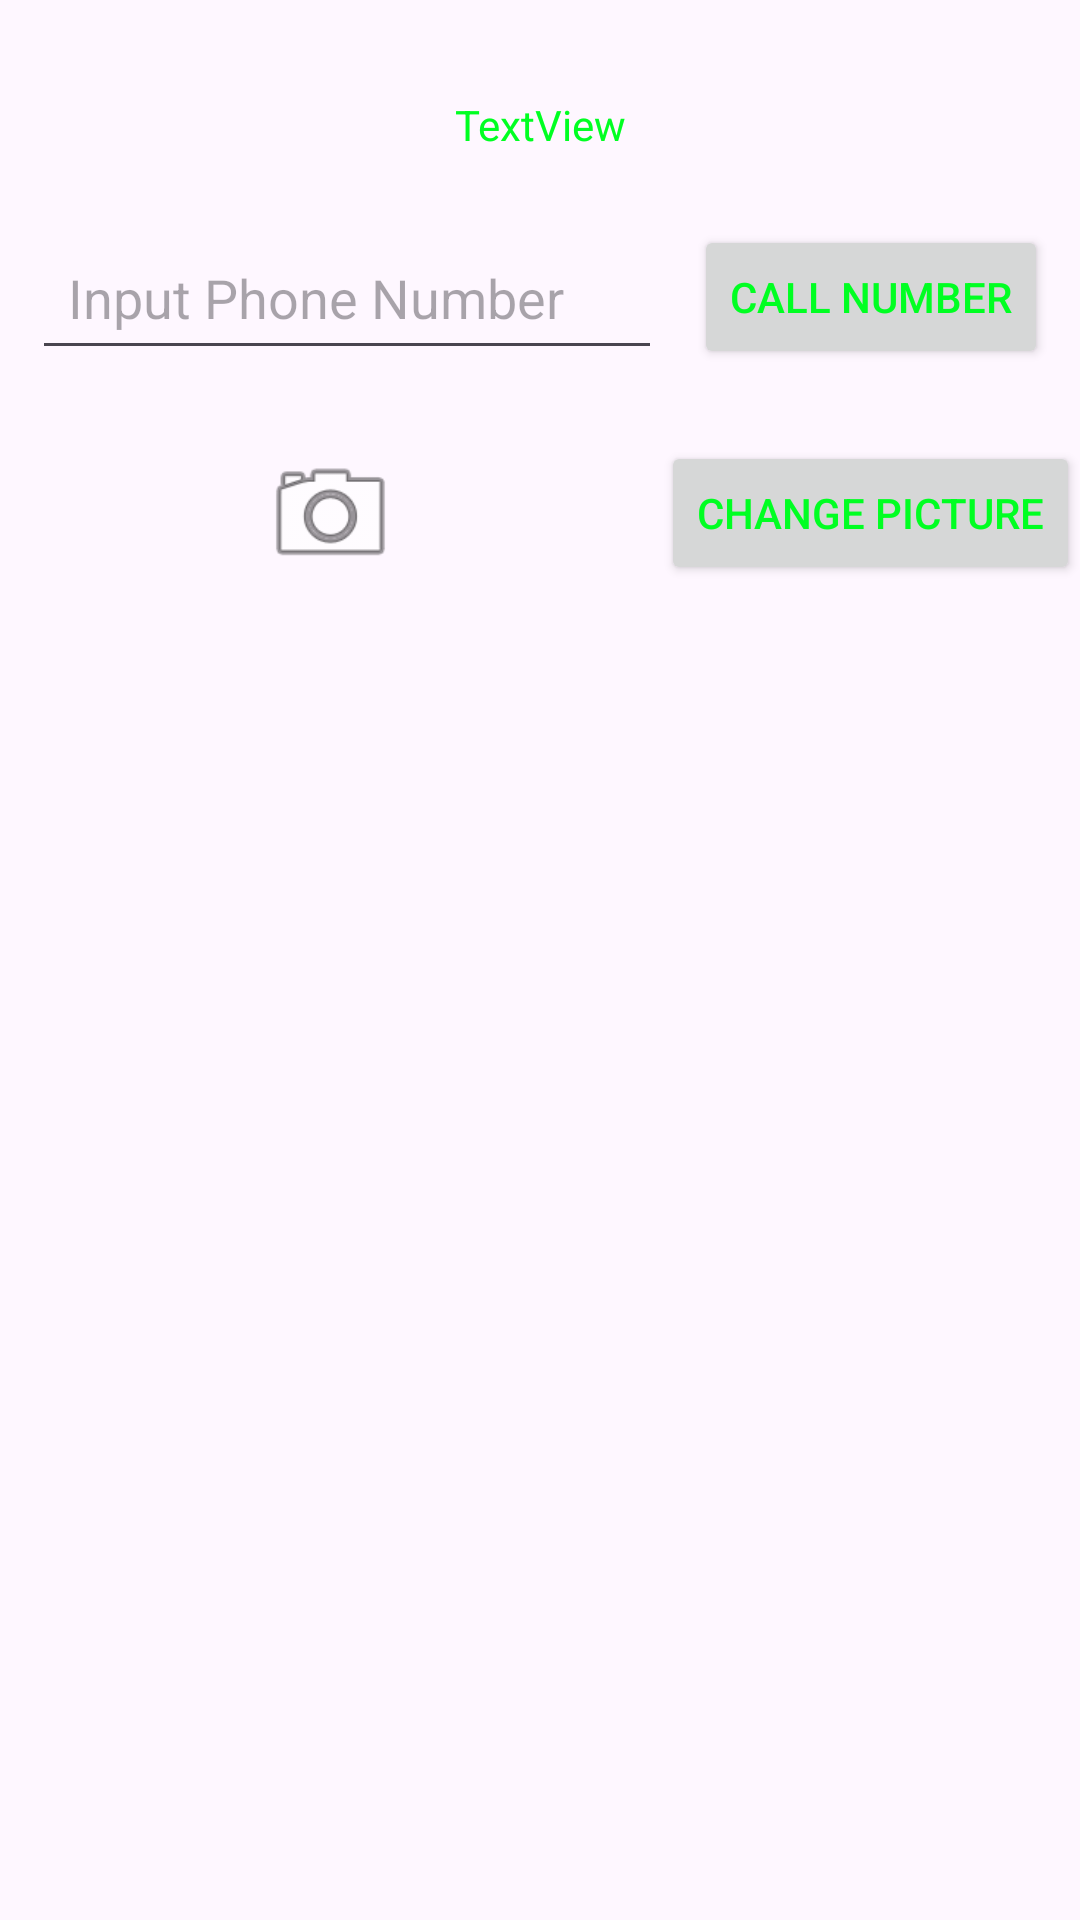

Named icons in this screenshot (1080w x 1920h) and their centers, (x=x, y=y):
camera: (x=330, y=511)
